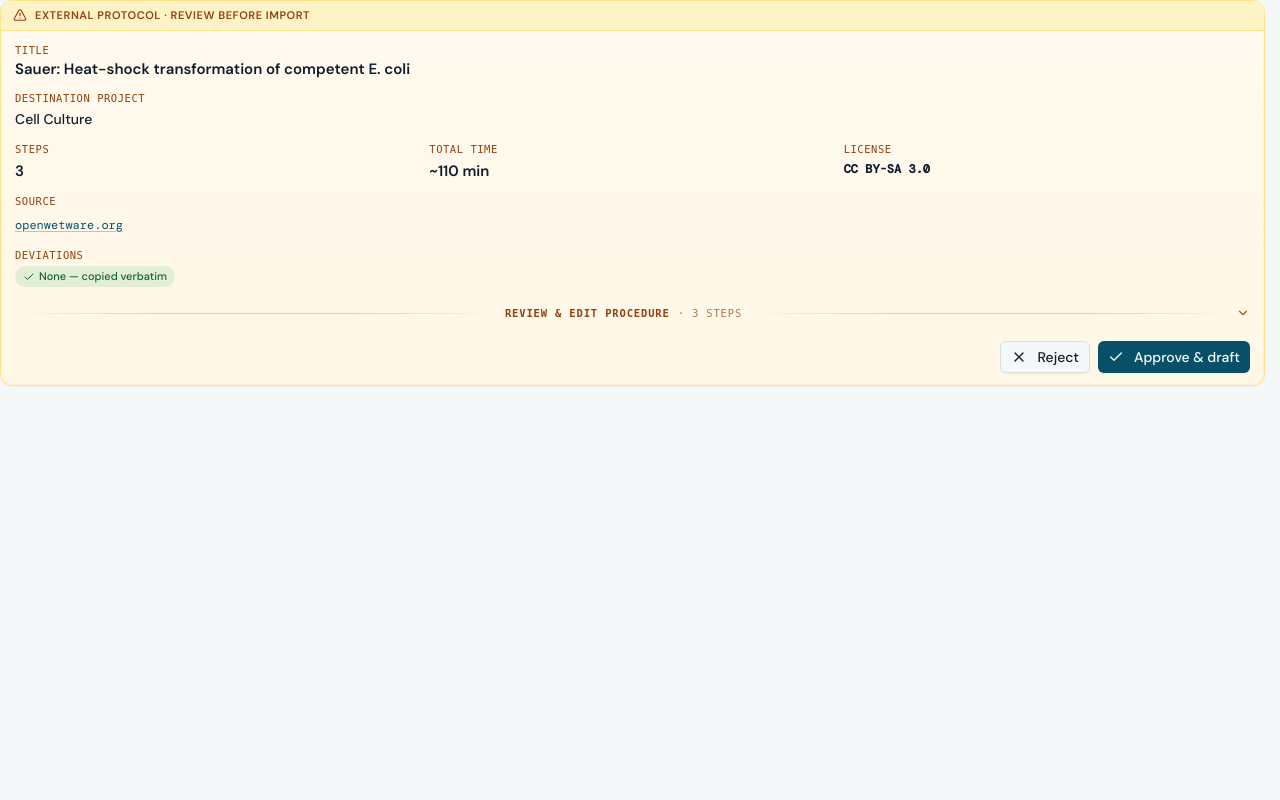
ApprovalCard (F-0084 inline edit) › reveals an editable step list with textareas and remove buttons when toggled
Expected: the text "Grow seed culture" is not shown
Click the button "Review & edit procedure · 3 steps".
click(632, 312)  # box 15,302 -> 1250,323
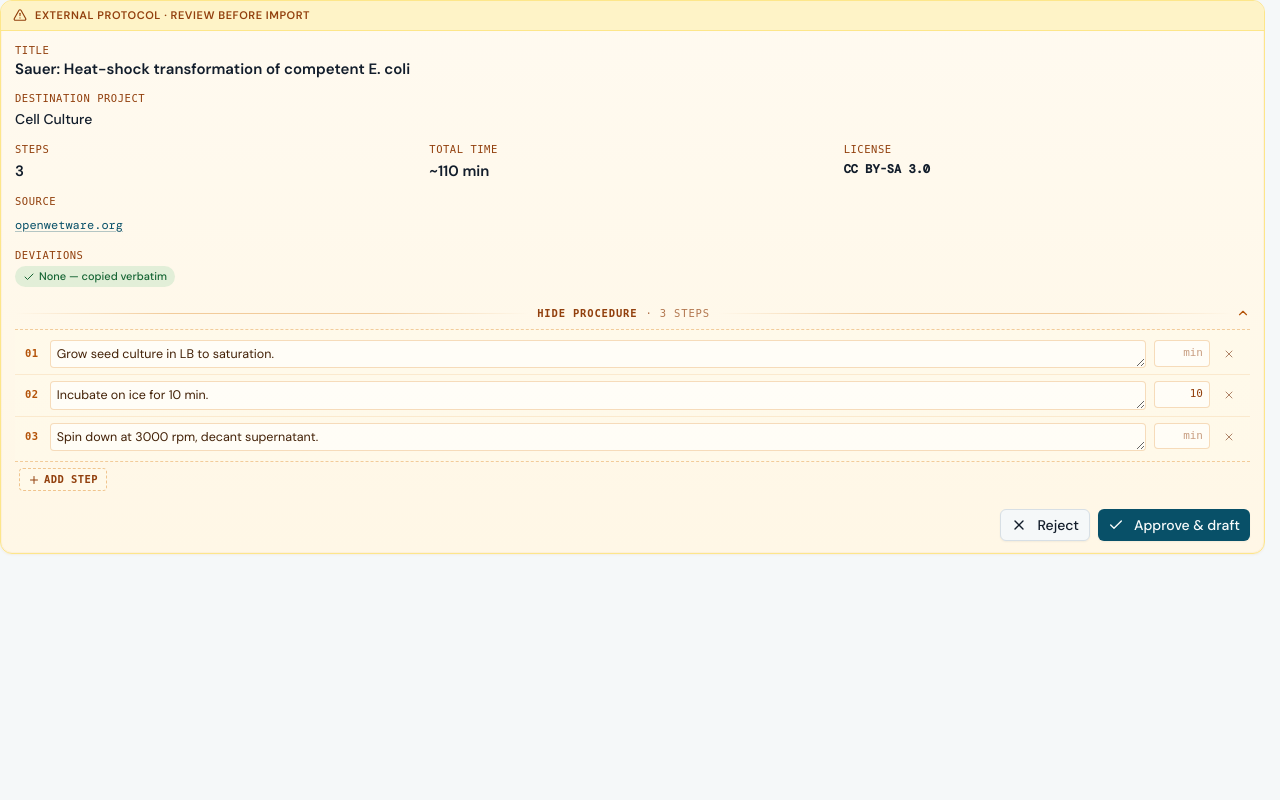
Result: the button named "remove step 1" is shown at 1218,343 -> 1240,365
Result: the button named "remove step 2" is shown at 1218,384 -> 1240,406
Result: the button "Hide procedure · 3 steps" is expanded at 15,302 -> 1250,323
